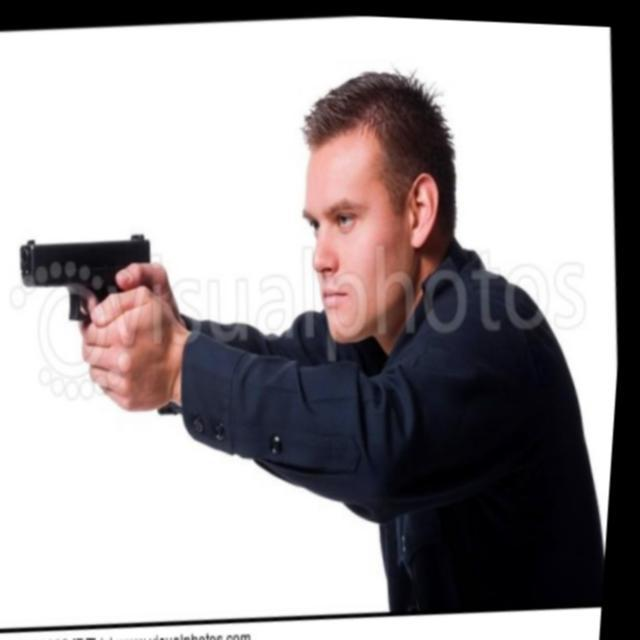weapon: (18, 225, 160, 328)
